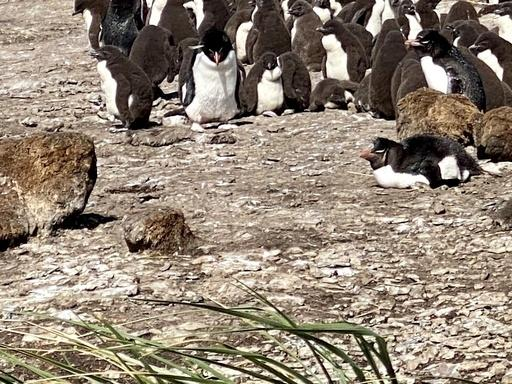Southern Rockhopper Penguin: (361, 106, 487, 217), (156, 20, 253, 120), (73, 47, 170, 135), (237, 43, 303, 126), (62, 0, 134, 54), (297, 70, 360, 116), (118, 0, 167, 11), (445, 0, 512, 7), (207, 0, 282, 6)
